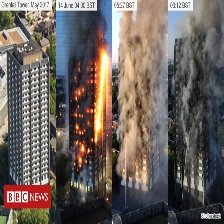fire: (69, 40, 108, 177)
smoke: (119, 13, 166, 178), (176, 9, 224, 165)
